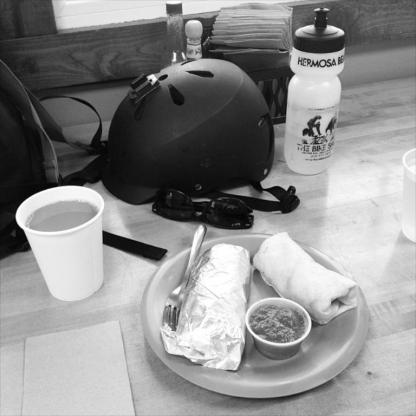Helmet: (98, 57, 279, 197)
